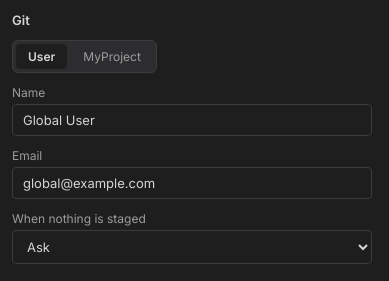
Test case: GitSettings › loads the local identity when switching to the workspace tab
Expected: the field labelled "Name" holds "Global User", [12, 104, 372, 136]
Click the button "MyProject".
click(112, 56)  # box [71, 44, 153, 69]
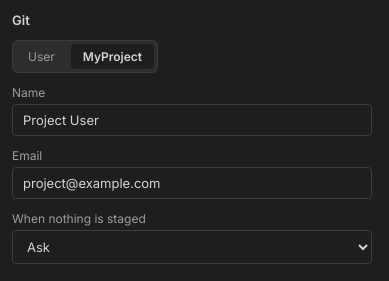
Expected: the field labelled "Name" holds "Project User", [12, 104, 372, 136]
Expected: the field labelled "Email" holds "project@example.com", [12, 167, 372, 199]
